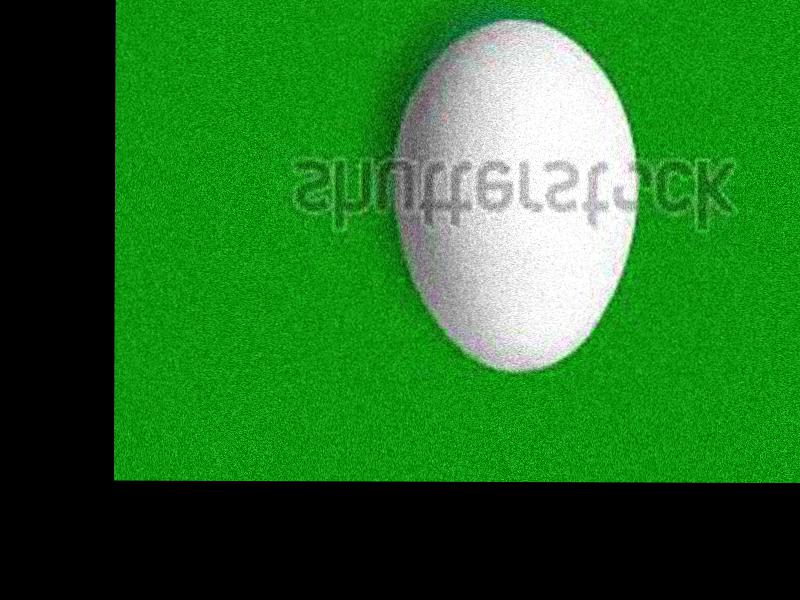Eggs: (391, 22, 636, 372)
